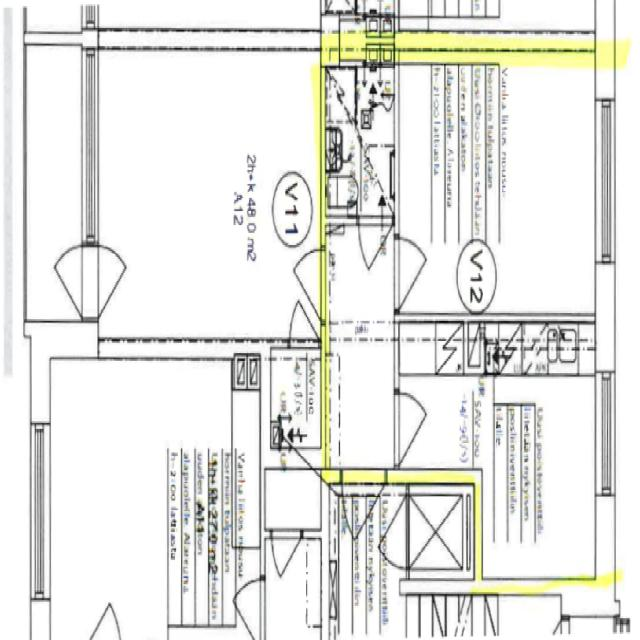door: (391, 386, 431, 464), (392, 230, 430, 306), (92, 238, 131, 312), (378, 490, 409, 580), (51, 240, 88, 314), (233, 570, 266, 640), (361, 148, 395, 212), (267, 523, 303, 583), (356, 206, 385, 274), (285, 293, 316, 349), (88, 599, 125, 640)
window: (77, 49, 106, 248), (592, 90, 622, 274), (26, 422, 56, 604), (592, 368, 620, 505), (561, 602, 618, 640)
zone: (96, 50, 316, 345), (38, 356, 176, 640), (494, 54, 603, 321), (484, 358, 610, 587), (325, 322, 400, 479), (323, 62, 395, 219), (387, 595, 579, 640), (404, 483, 474, 582), (267, 343, 321, 468), (362, 140, 396, 210)
